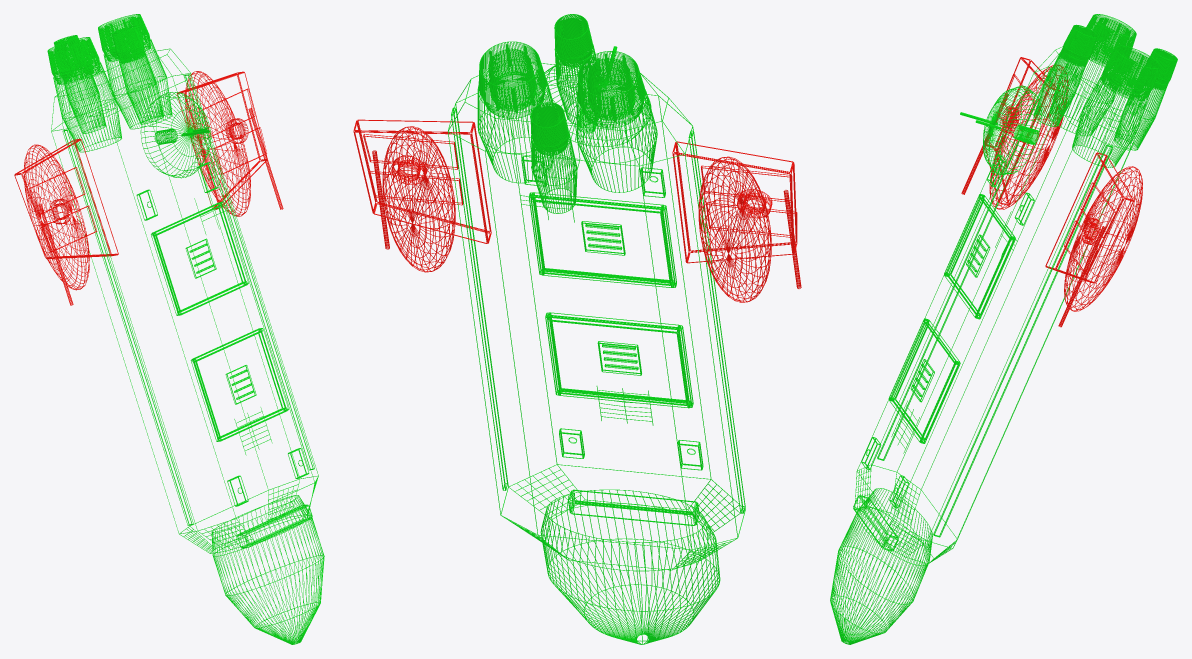
Rendered from command-cruiser-highlight-subwing-communications.glb.
3 views of the same model, side by side, from view 1: azimuth 30°, elevation 25°; view 2: azimuth 150°, elevation 25°; view 3: azimuth 270°, elevation 25° (orthographic). The views are drawn at different scales.
Parts seen in each view (by area): view 1: chassis technical wire, subwing-communications technical wire, drive-thrusters technical wire, xradar-sensor technical wire; view 2: chassis technical wire, drive-thrusters technical wire, subwing-communications technical wire, xradar-sensor technical wire; view 3: chassis technical wire, drive-thrusters technical wire, subwing-communications technical wire, xradar-sensor technical wire.
Boxes of the visible parts, bbox=[...] form: chassis technical wire: bbox=[51, 48, 324, 644]; subwing-communications technical wire: bbox=[14, 71, 283, 305]; drive-thrusters technical wire: bbox=[47, 14, 172, 152]; xradar-sensor technical wire: bbox=[140, 92, 211, 178]; chassis technical wire: bbox=[447, 60, 745, 644]; drive-thrusters technical wire: bbox=[477, 14, 657, 213]; subwing-communications technical wire: bbox=[353, 119, 801, 302]; xradar-sensor technical wire: bbox=[535, 46, 651, 146]; chassis technical wire: bbox=[830, 46, 1138, 644]; drive-thrusters technical wire: bbox=[1034, 14, 1177, 167]; subwing-communications technical wire: bbox=[961, 57, 1142, 327]; xradar-sensor technical wire: bbox=[960, 85, 1041, 174].
Bounding box in the file's own units: 2.64 × 4.93 × 2.65.
